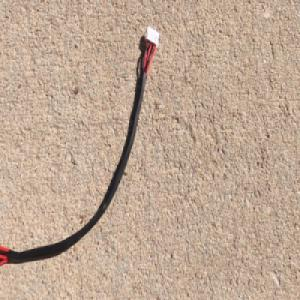Wire: (0, 23, 160, 274)
